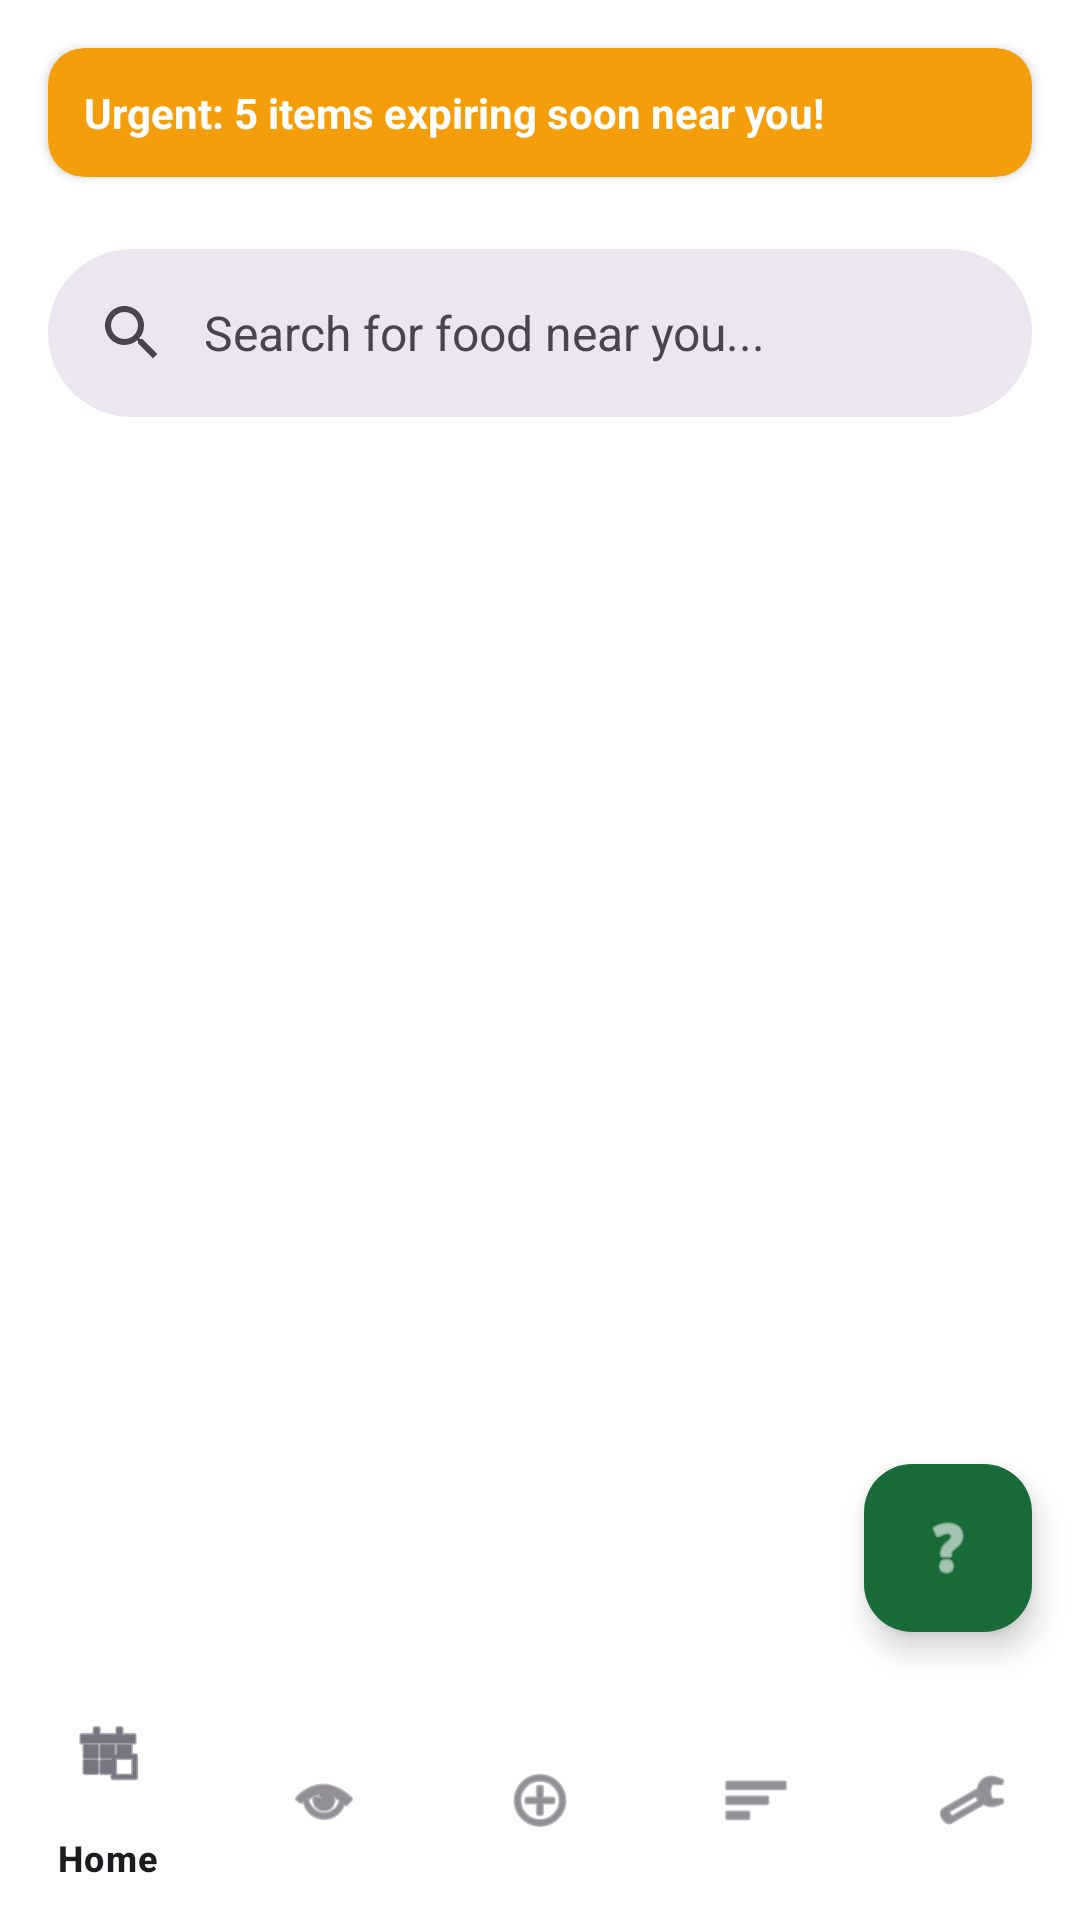

Icons on this 1080 x 1920 Android screen, each with its box as (x1, y1, x2, y2):
help: (864, 1464, 1032, 1632)
